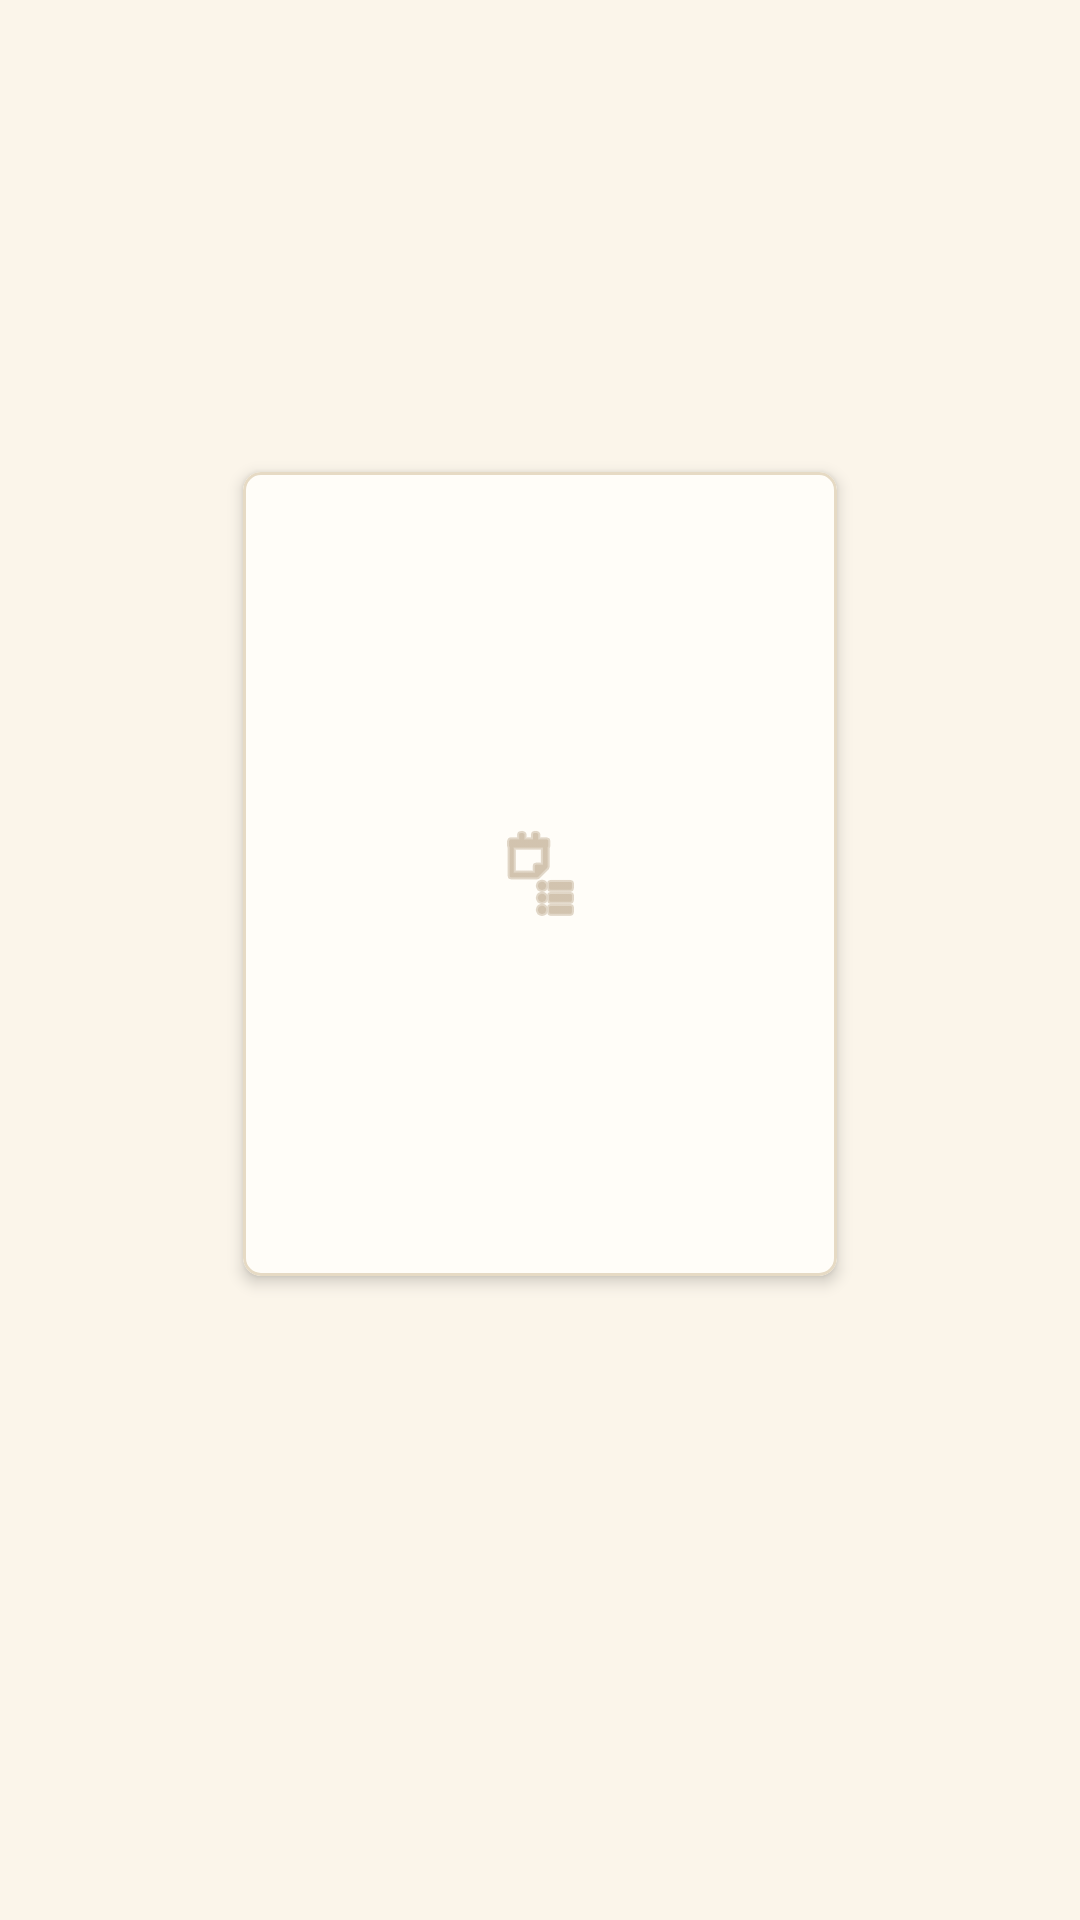

Named icons in this screenshot (1080px x 1920px) and their bounding boxes, (x1, y1, x2, y2):
agenda: (507, 831, 574, 916)
